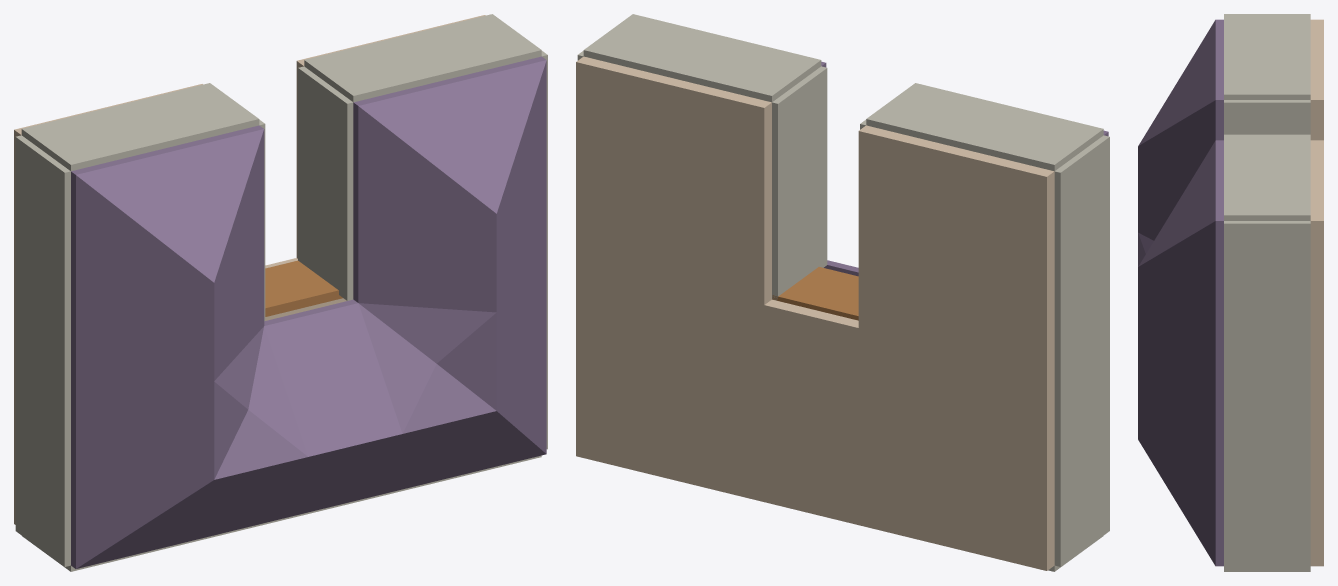
File: flower-court.obj
3 views of the same model, side by side, from view 1: azimuth 30°, elevation 25°; view 2: azimuth 150°, elevation 25°; view 3: azimuth 270°, elevation 25° (orthographic). The views are drawn at different scales.
Visible parts, largest first — view 1: roof_tile3-3, roof_tile0-3, roof_tile0-2, roof_tile3-2, roof_tile0-1, roof_tile2-1, roof_tile3-1, roof_tile0-0, roof_tile1-3, roof_tile4-3, roof_tile1-1, walls_edge18 (+17 smaller); view 2: foundation_tile0-3, foundation_tile3-3, foundation_tile0-1, foundation_tile0-0, foundation_tile0-2, foundation_tile4-3, foundation_tile1-3, foundation_tile3-2, foundation_tile2-1, foundation_tile4-1, foundation_tile2-0, foundation_tile4-0 (+17 smaller); view 3: walls_edge19, walls_edge6, walls_edge8, walls_edge12, roof_tile4-1, roof_tile4-2, roof_tile4-3, roof_tile1-3, roof_tile4-0, walls_edge16, walls_edge20, walls_edge13 (+14 smaller).
Part boxes in pixels (<box>): roof_tile3-3: <box>353,79,496,213</box>; roof_tile0-3: <box>71,148,213,282</box>; roof_tile0-2: <box>71,270,214,381</box>; roof_tile3-2: <box>353,201,496,312</box>; roof_tile0-1: <box>71,369,214,479</box>; roof_tile2-1: <box>264,299,402,456</box>; roof_tile3-1: <box>358,303,496,433</box>; roof_tile0-0: <box>71,467,213,568</box>; roof_tile1-3: <box>165,125,264,282</box>; roof_tile4-3: <box>448,56,546,213</box>; roof_tile1-1: <box>214,326,308,479</box>; walls_edge18: <box>298,66,353,202</box>; foundation_tile0-3: <box>952,148,1054,275</box>; foundation_tile3-3: <box>670,79,771,206</box>; foundation_tile0-1: <box>952,351,1054,472</box>; foundation_tile0-0: <box>952,449,1054,570</box>; foundation_tile0-2: <box>952,252,1054,373</box>; foundation_tile4-3: <box>576,56,677,183</box>; foundation_tile1-3: <box>858,125,959,252</box>; foundation_tile3-2: <box>670,183,771,304</box>; foundation_tile2-1: <box>764,299,858,426</box>; foundation_tile4-1: <box>576,259,670,380</box>; foundation_tile2-0: <box>764,403,858,524</box>; foundation_tile4-0: <box>576,357,670,478</box>; walls_edge19: <box>1224,221,1310,309</box>; walls_edge6: <box>1224,482,1310,568</box>; walls_edge8: <box>1224,396,1310,482</box>; walls_edge12: <box>1224,310,1310,396</box>; roof_tile4-1: <box>1138,353,1223,479</box>; roof_tile4-2: <box>1138,267,1223,393</box>; roof_tile4-3: <box>1138,180,1223,307</box>; roof_tile1-3: <box>1138,60,1223,174</box>; roof_tile4-0: <box>1138,440,1223,566</box>; walls_edge16: <box>1224,54,1310,99</box>; walls_edge20: <box>1224,175,1310,220</box>; walls_edge13: <box>1224,14,1310,54</box>.
Size of the model in its own units: 5.13 by 4.13 by 1.95.
